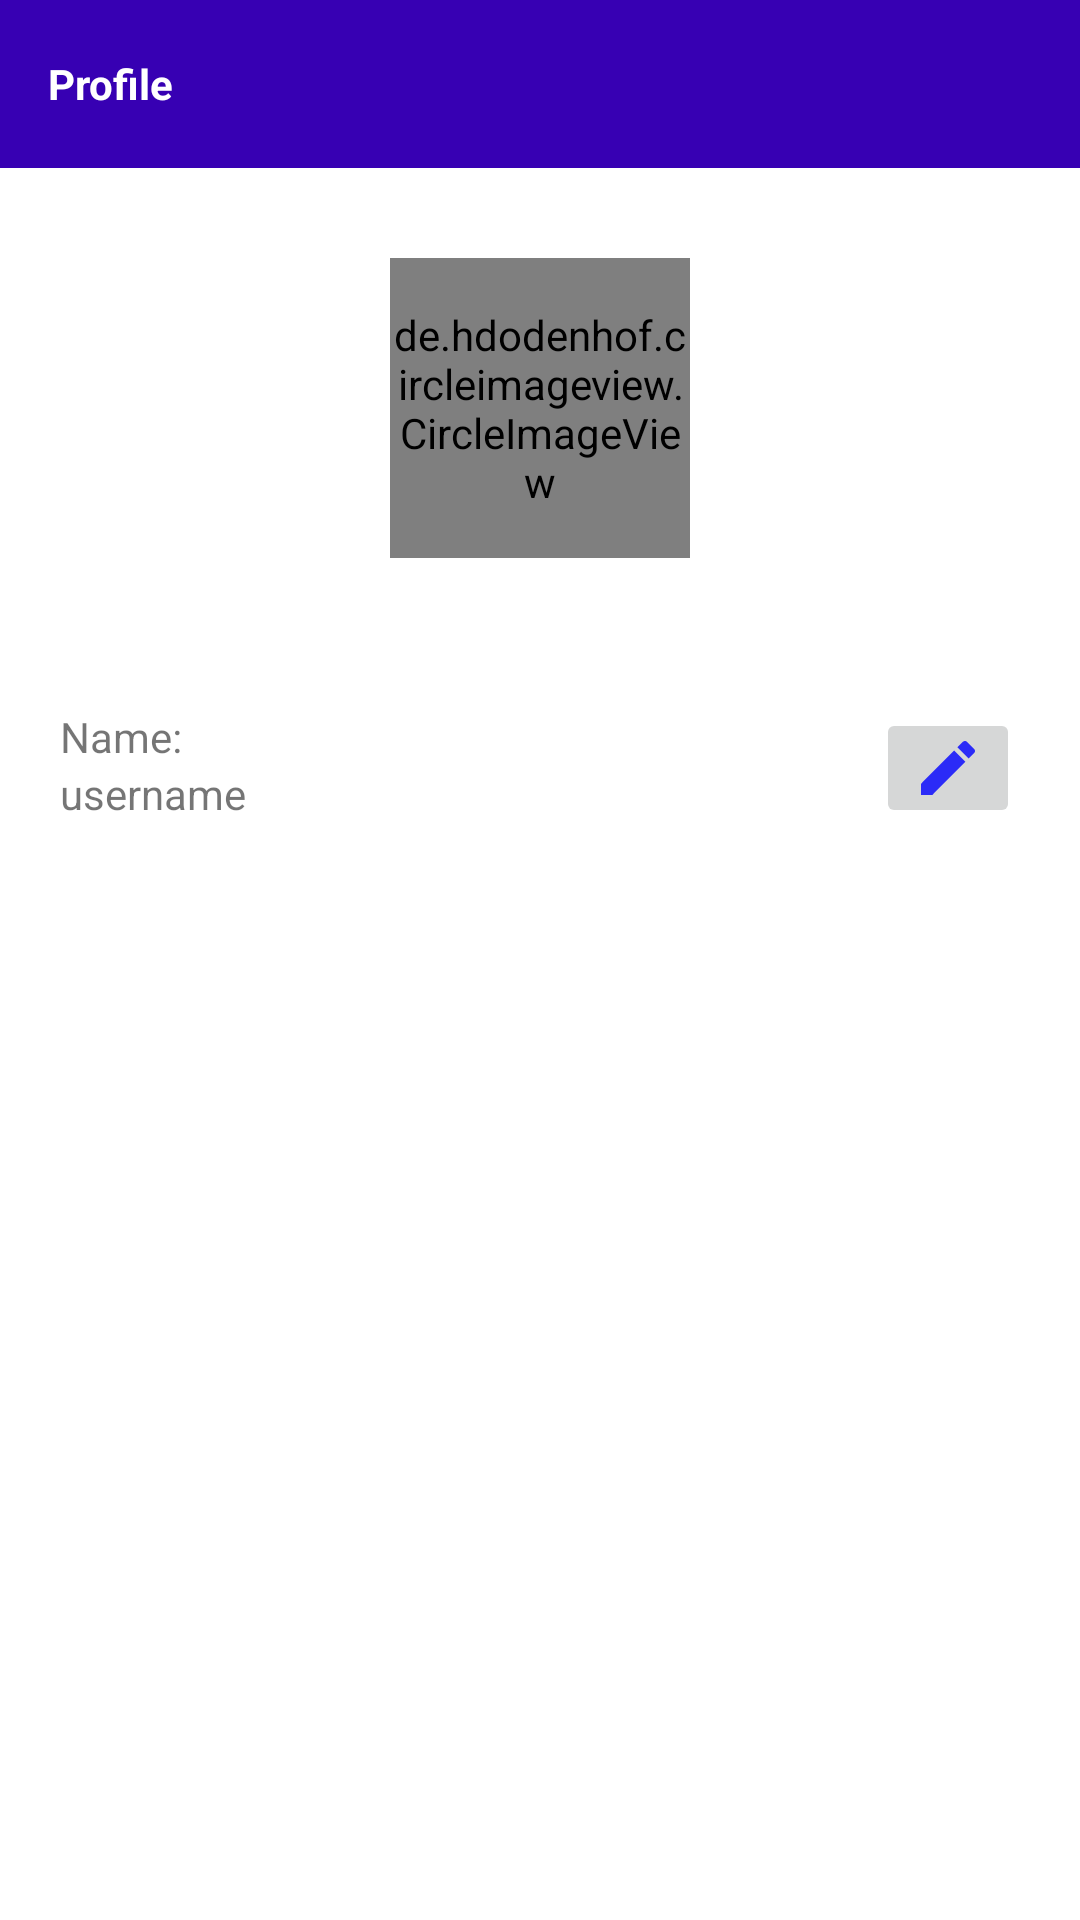

Where to tap for icons on this 1080*1920 app screen, as (x=x, y=y):
edit name: (x=948, y=768)
